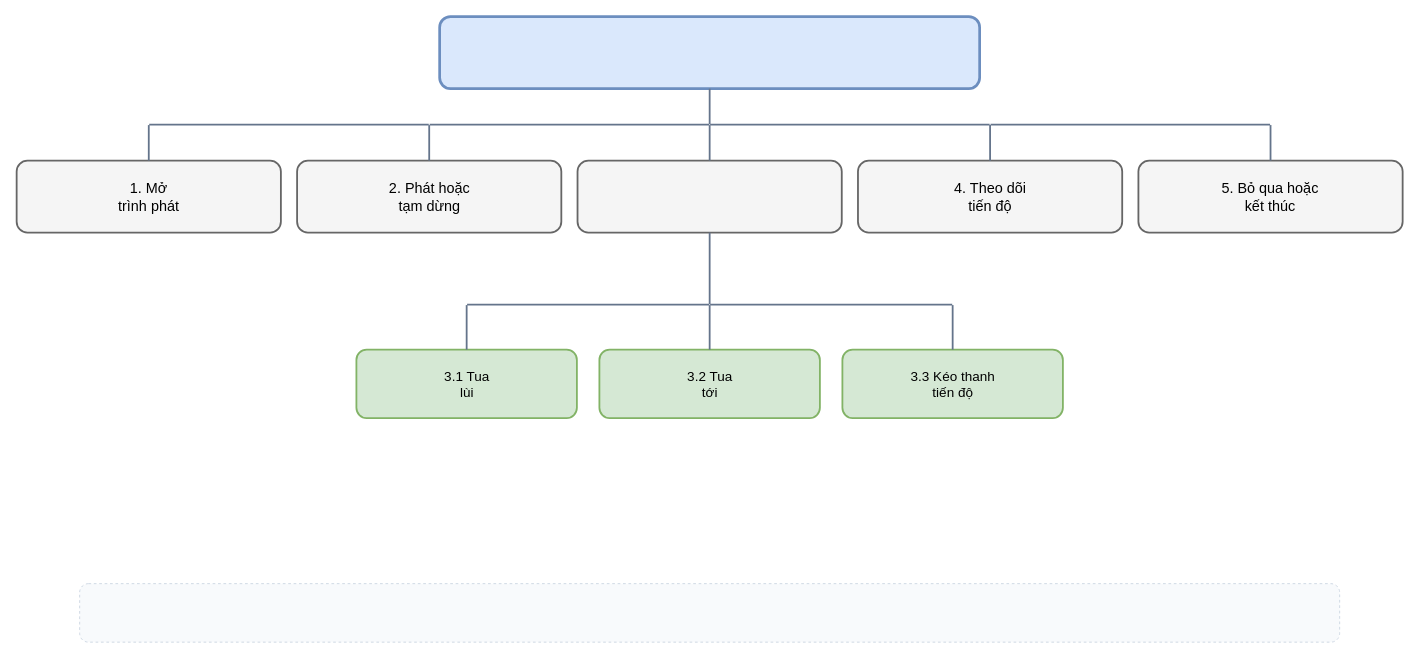
This 1418x658 diagram has some shape labels left out. Each missing label, with the centre of its shape:
0. Điều khiển trình phát câu chuyện: (x=709, y=52)
3. Điều chỉnh vị trí nghe: (x=709, y=196)
Plan 0: 1 → lặp 2–4 theo nhu cầu → 5; tại 3 chọn 3.1, 3.2 hoặc 3.3.: (x=709, y=612)
